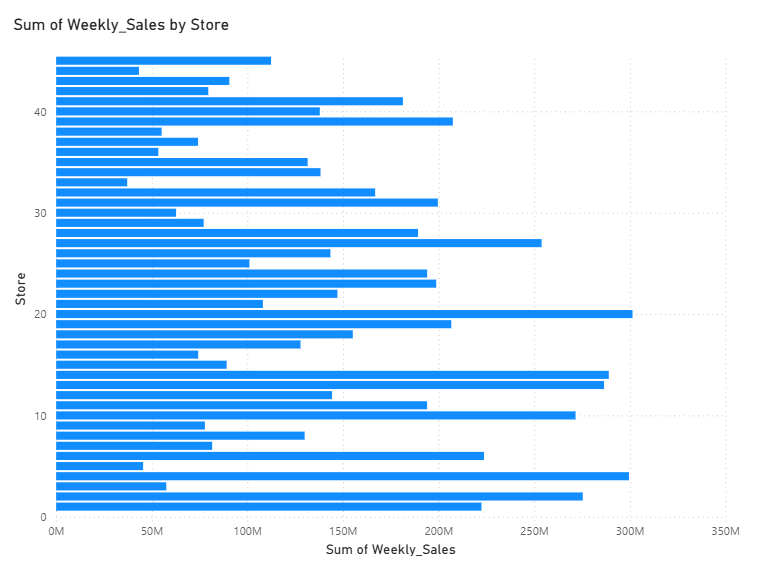

What the dashboard file says about the page in this screenshot:
{"tool":"powerbi","page":{"name":"Page 3","canvas":[1280,720],"ordinal":2},"visuals":[{"type":"clusteredBarChart","fields":{"Category":["Walmart_Clean.Store"],"Y":["Sum(Walmart_Clean.Weekly_Sales)"]},"box":[275.4,37.9,774.5,573.1],"z":0}]}

Visuals, with their boxes on the page's 1280x720 design canvas (x1, y1, x2, y2). These are canvas units, not pixel positions in the 765x567 screenshot, which may show the page scaled, cropped or inside an application window:
clusteredBarChart - Walmart_Clean.Store x Sum(Walmart_Clean.Weekly_Sales): pyautogui.locateOnScreen(275, 38, 1050, 611)
